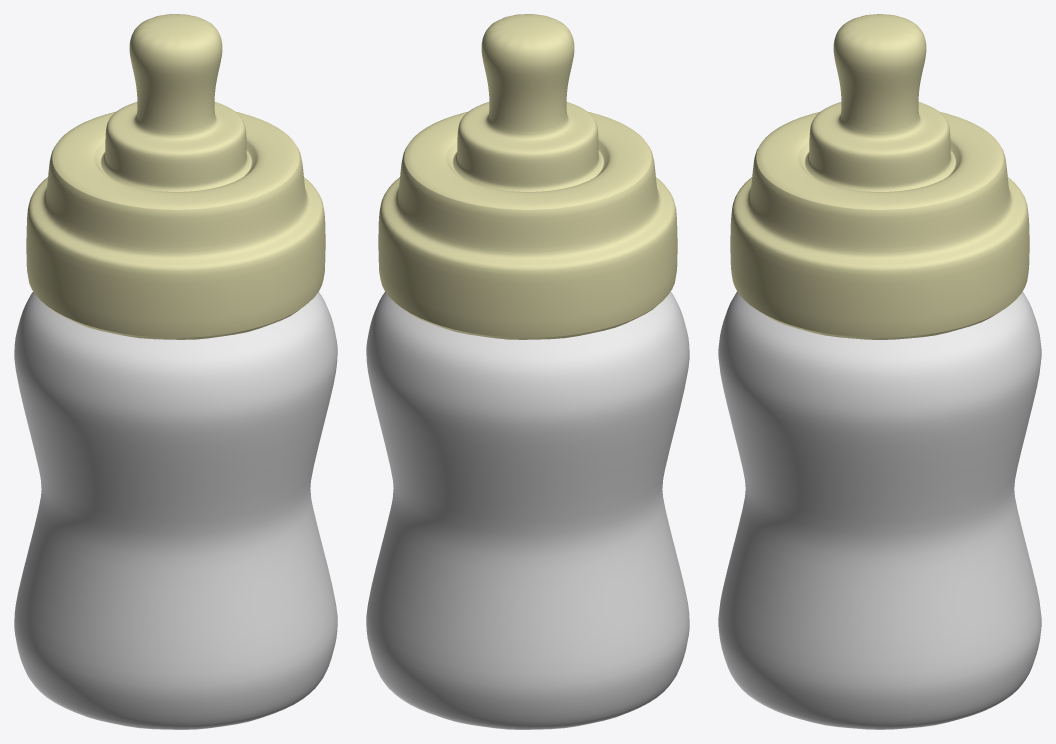
File: SM_ProperFlesje.fbx
3 renders of one model, left to right at view 1: azimuth 30°, elevation 25°; view 2: azimuth 150°, elevation 25°; view 3: azimuth 270°, elevation 25°, orthographic.
Visible parts, largest first — view 1: Cylinder.001; view 2: Cylinder.001; view 3: Cylinder.001.
Boxes of the visible parts, box(x1,y1,x2,y2) form: Cylinder.001: box(14, 14, 337, 729); Cylinder.001: box(366, 14, 689, 729); Cylinder.001: box(718, 14, 1041, 729).
Size of the model in its own units: 30.9 by 68.65 by 30.9.
